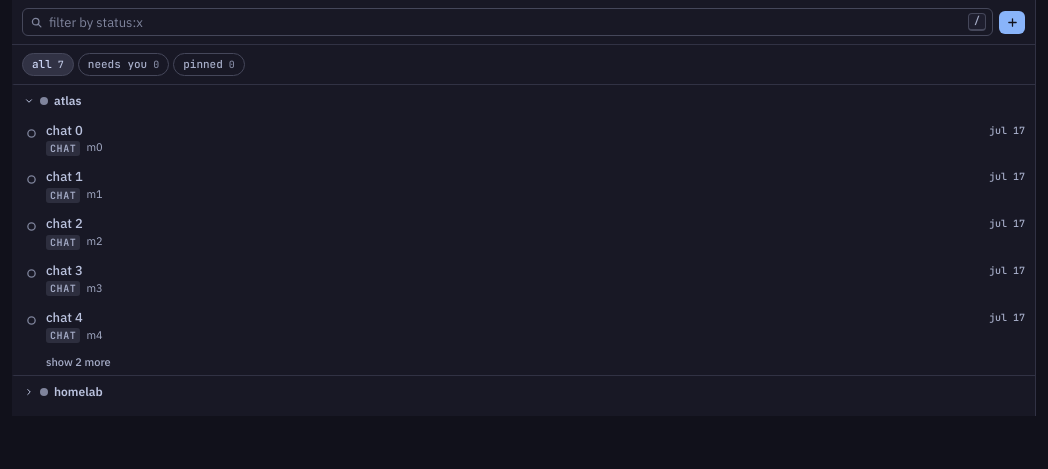
Scenario: a filter shows every matching session of an agent
This screenshot has width=1048, height=469.
Type "chat" into the search field named "Filter sessions" at (508, 22), box [22,8,993,36]
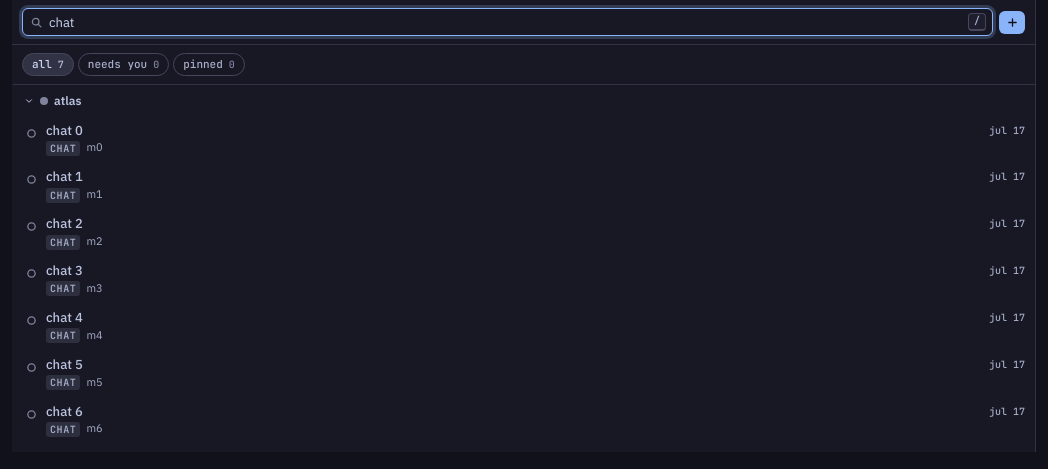
expect the button "chat 6 jul 17 chat m6" is shown: met, box [12,398,1035,444]
expect the number of buttons with class "t-srow" is 7: met
